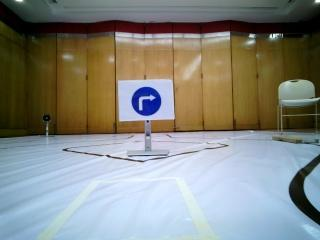right: (122, 84, 172, 123)
